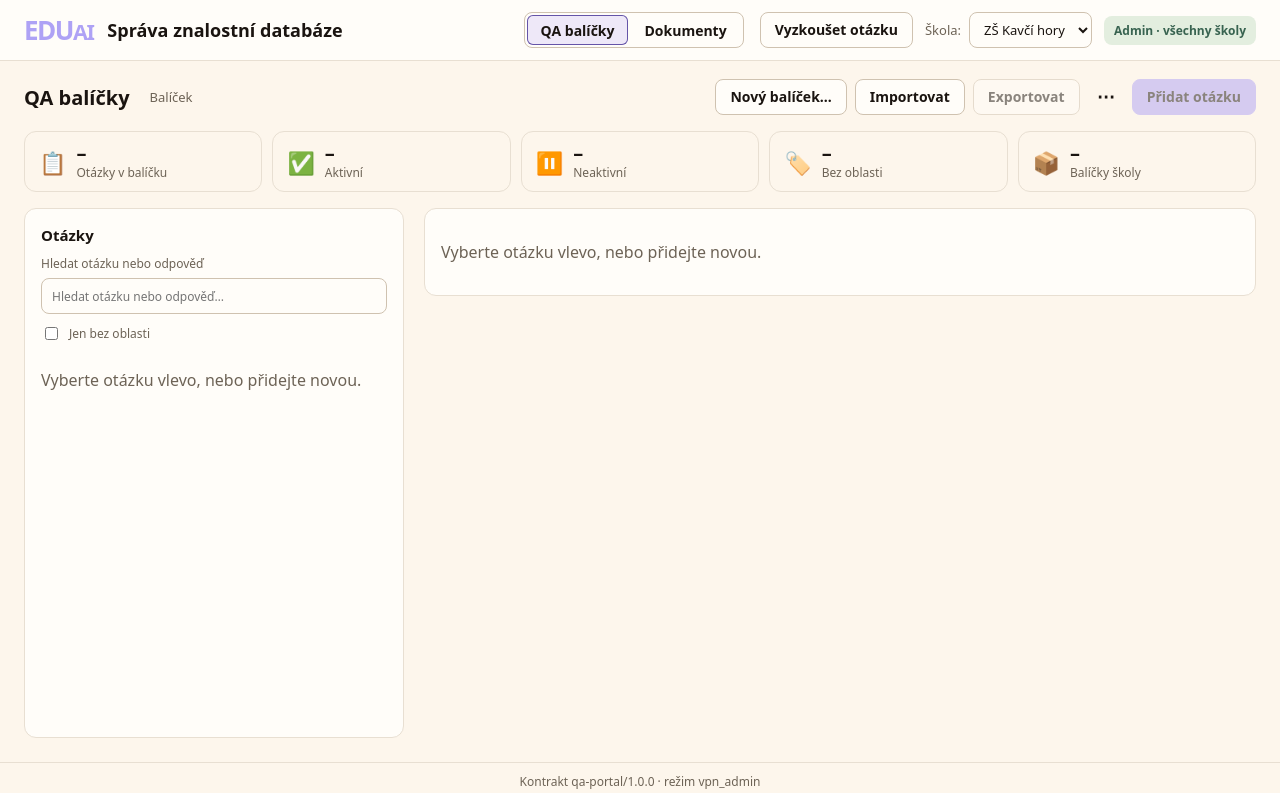
Test: try a question in the app › opens the drawer with focus in the question, answers, and Escape returns focus to the button
Click the button "Vyzkoušet otázku". click: click(836, 30)
box: x1=760 y1=12 x2=913 y2=48
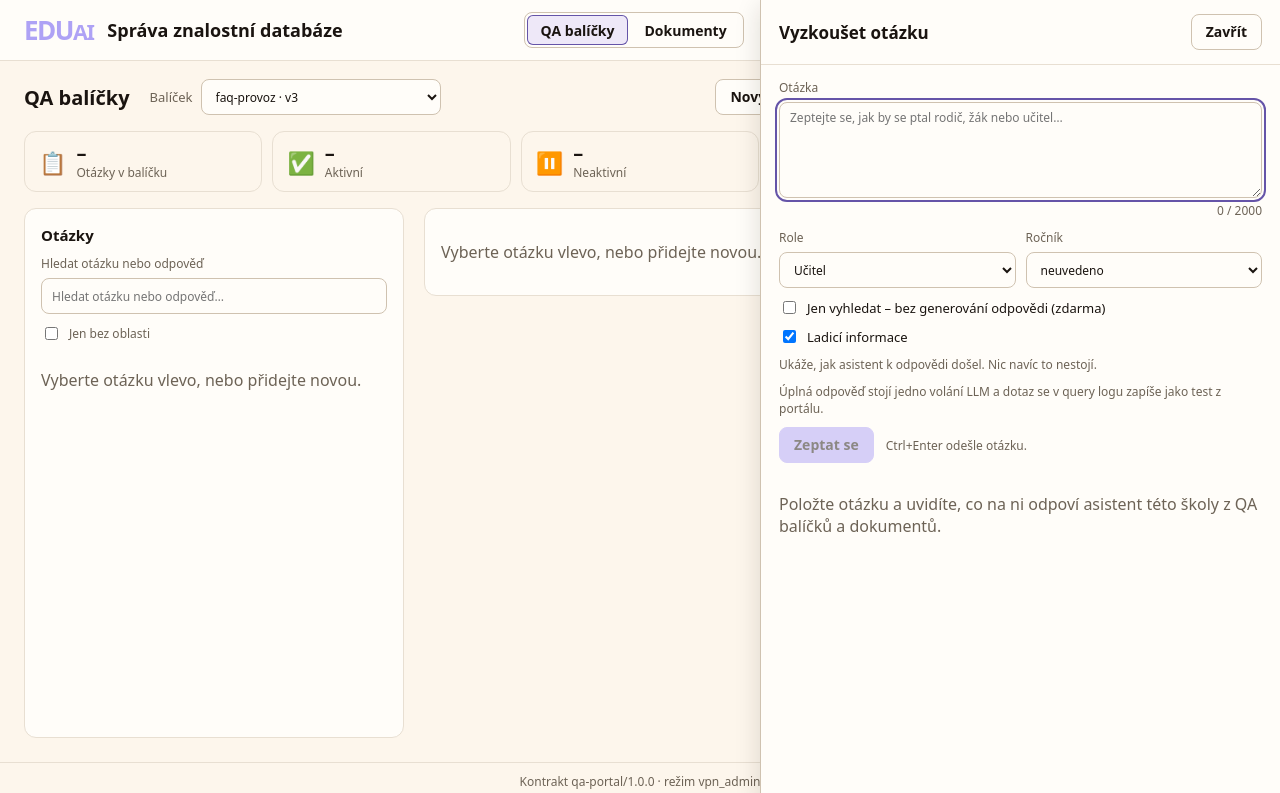
Check: the button "Vyzkoušet otázku" is expanded, box x1=760 y1=12 x2=913 y2=48
Type "Kdy začíná školní rok?" into the text box labelled "Otázka". click: (1020, 150)
box: x1=779 y1=102 x2=1262 y2=198
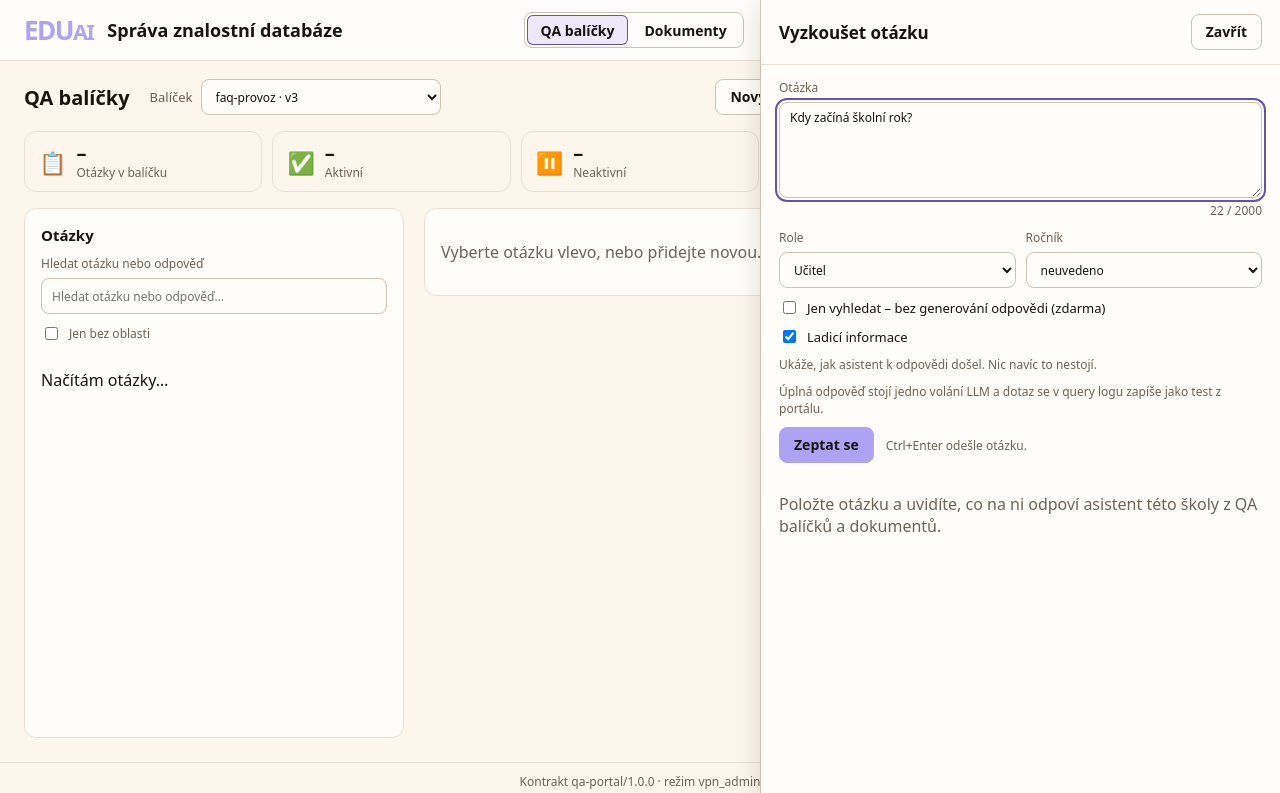
Press Enter in the text box labelled "Otázka", box x1=779 y1=102 x2=1262 y2=198
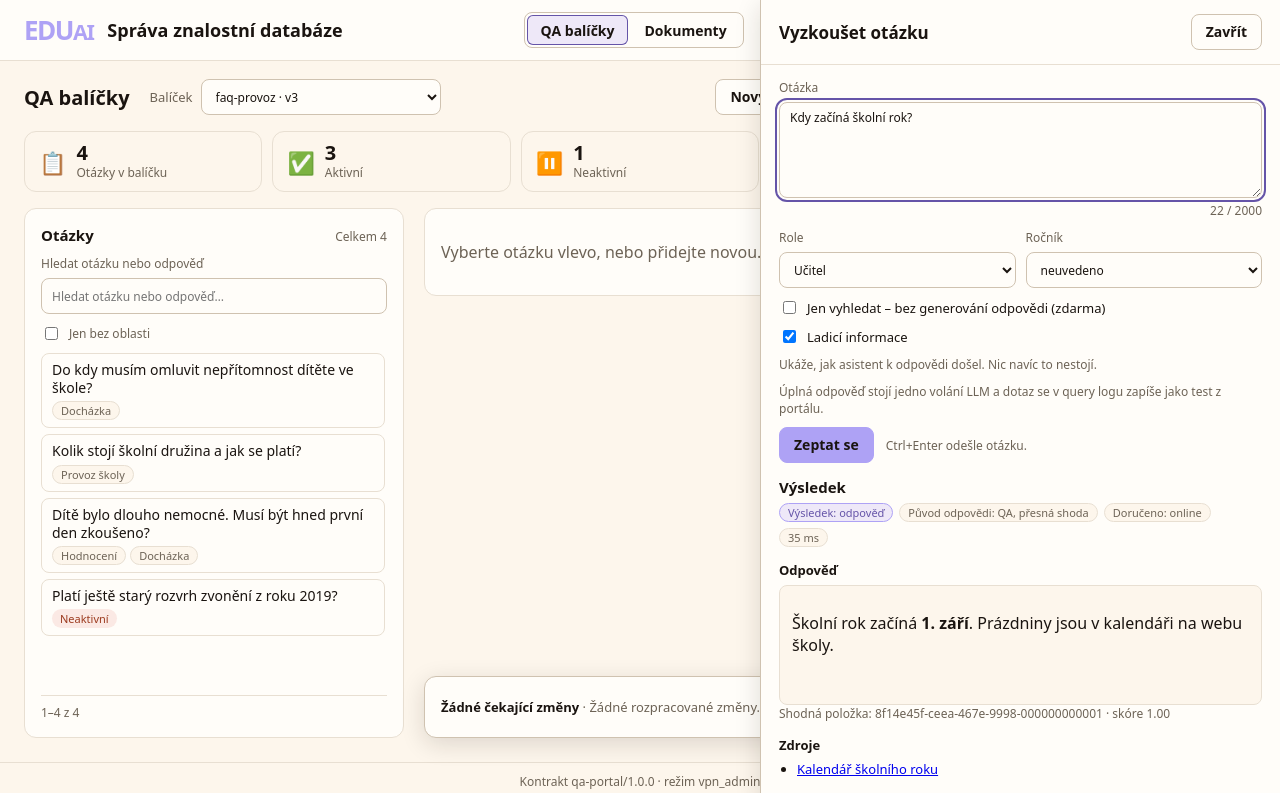
Check: the text "Výsledek: odpověď" is shown, box x1=779 y1=503 x2=893 y2=522
Press Escape
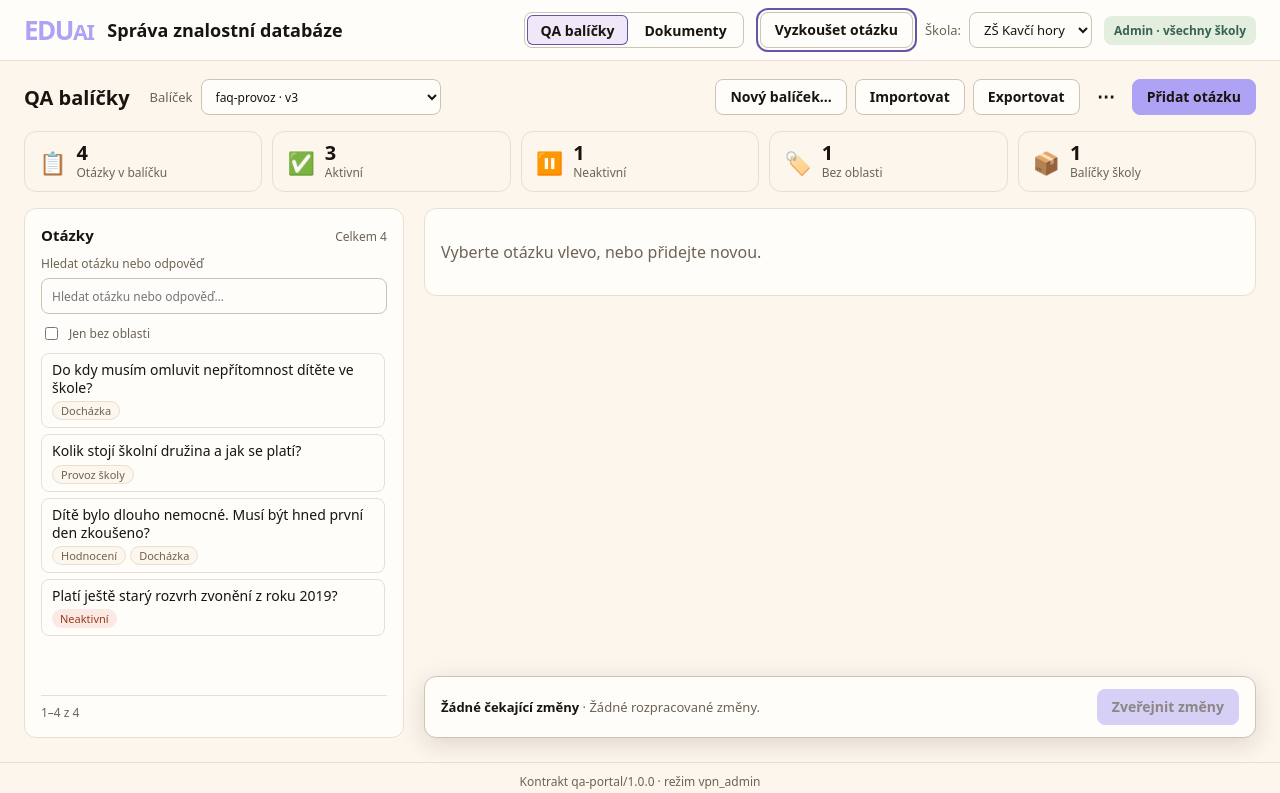
Check: the button "Vyzkoušet otázku" is collapsed, box x1=760 y1=12 x2=913 y2=48
